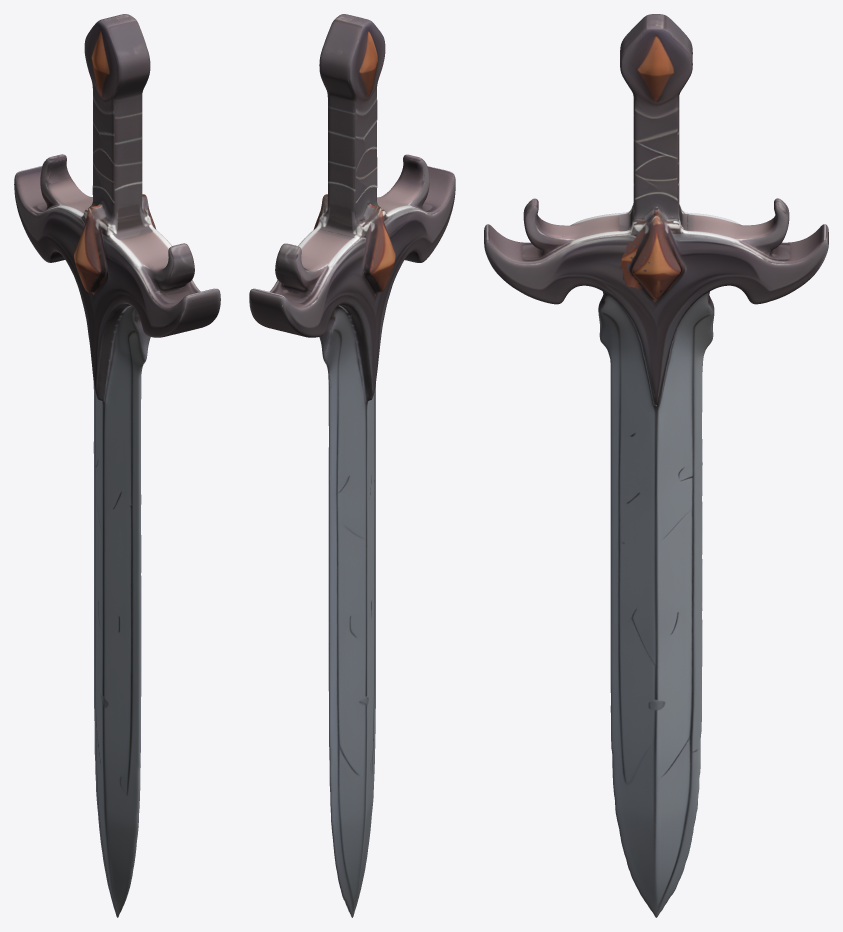
Rendered from Sword 06.fbx.
The picture shows the model from 3 angles, left to right: view 1: azimuth 30°, elevation 25°; view 2: azimuth 150°, elevation 25°; view 3: azimuth 270°, elevation 25°; orthographic projection.
Parts seen in each view (by area): view 1: Sword 06; view 2: Sword 06; view 3: Sword 06.
Part boxes in pixels (x1,y1,x2,y2): Sword 06: (14, 14, 220, 917); Sword 06: (249, 14, 455, 917); Sword 06: (484, 14, 828, 917).
Bounding box in the file's own units: 18.05 × 189 × 65.77.
1 material, 1 textured.
